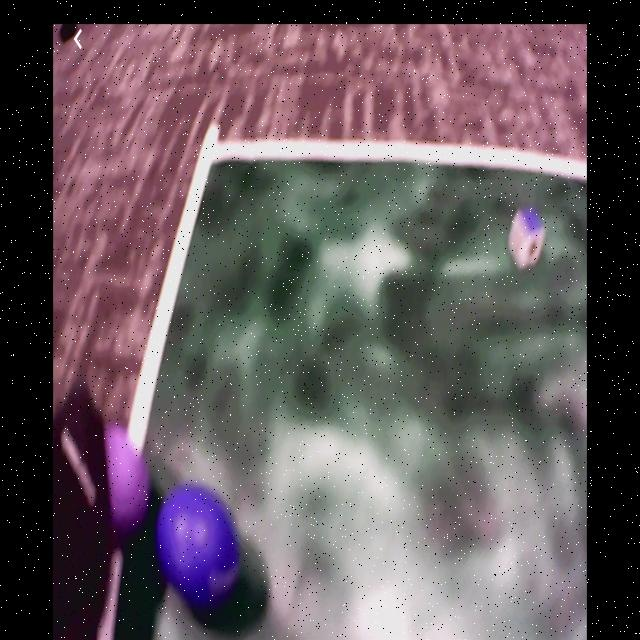ball: (159, 488, 241, 596), (105, 420, 151, 532)
